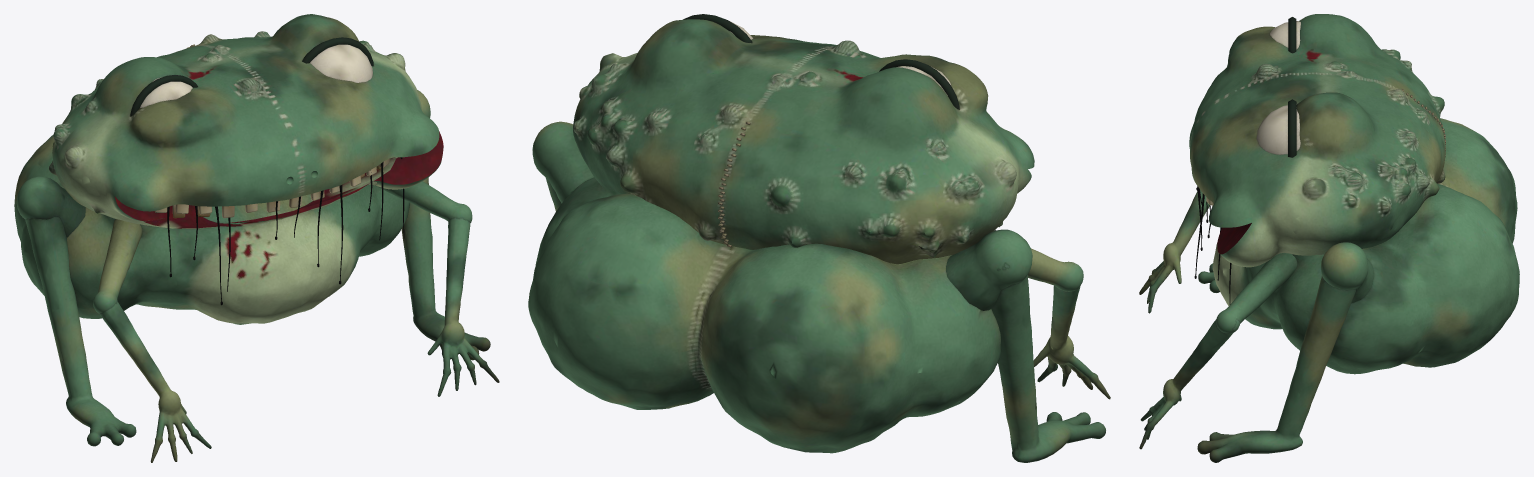
File: toad_1.glb
3 views of the same model, side by side, from view 1: azimuth 30°, elevation 25°; view 2: azimuth 150°, elevation 25°; view 3: azimuth 270°, elevation 25° (orthographic). The views are drawn at different scales.
Parts seen in each view (by area): view 1: head, body, shin_R, shin_L, forearm_L, forearm_R, jaw, leg_R, arm_R, eye_L, arm_L, eye_R (+2 smaller); view 2: head, body, shin_R, leg_R, leg_L, forearm_R, arm_R; view 3: head, body, shin_L, arm_L, forearm_L, leg_L, forearm_R, eye_L, jaw, eye_R.
Part boxes in pixels (x1,y1,x2,y2): head: (49, 14, 439, 228); body: (14, 134, 409, 324); shin_R: (25, 216, 136, 446); shin_L: (401, 177, 490, 360); forearm_L: (427, 218, 499, 396); forearm_R: (100, 302, 211, 462); jaw: (114, 131, 443, 228); leg_R: (16, 176, 85, 237); arm_R: (93, 219, 142, 313); eye_L: (310, 44, 372, 82); arm_L: (377, 181, 472, 222); eye_R: (140, 77, 192, 107); head: (573, 14, 1034, 264); body: (528, 177, 1000, 453); shin_R: (991, 262, 1105, 462); leg_R: (946, 229, 1032, 310); leg_L: (532, 121, 593, 203); forearm_R: (1033, 285, 1110, 399); arm_R: (1028, 248, 1083, 291); head: (1189, 14, 1445, 266); body: (1212, 118, 1519, 374); shin_L: (1197, 276, 1355, 462); arm_L: (1216, 253, 1297, 333); forearm_L: (1139, 319, 1240, 449); leg_L: (1321, 242, 1373, 302); forearm_R: (1139, 190, 1209, 313); eye_L: (1256, 104, 1300, 154); jaw: (1217, 223, 1252, 267); eye_R: (1269, 21, 1300, 49).
Bounding box in the file's own units: 2.3 × 1.71 × 1.9.
Materials: 2 (1 with a texture image).
